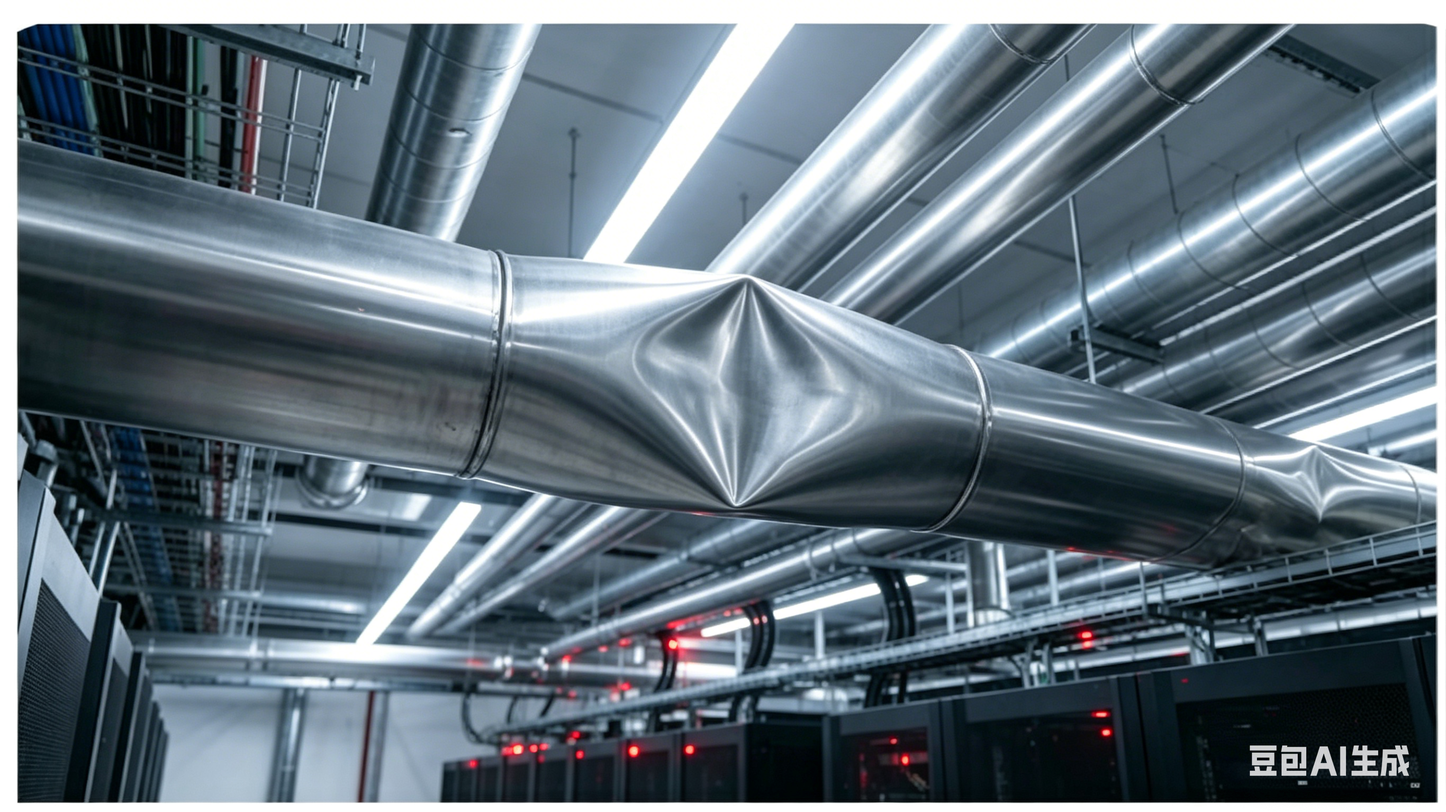Leakage: (561, 252, 891, 523), (1228, 419, 1407, 536)
